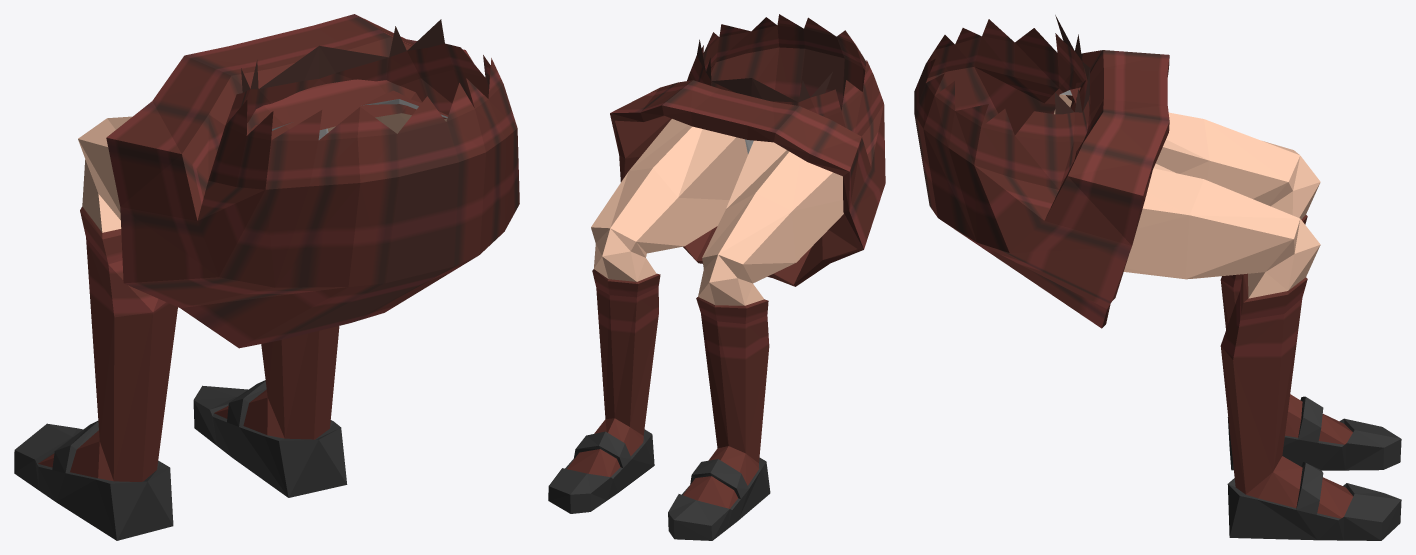
Rendered from SchoolGirl_01_Legs_79_02_A.obj.
The picture shows the model from 3 angles, left to right: view 1: azimuth 30°, elevation 25°; view 2: azimuth 150°, elevation 25°; view 3: azimuth 270°, elevation 25°; orthographic projection. The views are drawn at different scales.
Parts seen in each view (by area): view 1: SchoolGirl_01_Legs_79_02_A; view 2: SchoolGirl_01_Legs_79_02_A; view 3: SchoolGirl_01_Legs_79_02_A.
Part boxes in pixels (<box>): SchoolGirl_01_Legs_79_02_A: <box>14,14,519,540</box>; SchoolGirl_01_Legs_79_02_A: <box>548,14,885,540</box>; SchoolGirl_01_Legs_79_02_A: <box>914,15,1401,540</box>.
Size of the model in its own units: 0.4889 by 0.7053 by 0.7079.
Materials: 1 (1 with a texture image).
